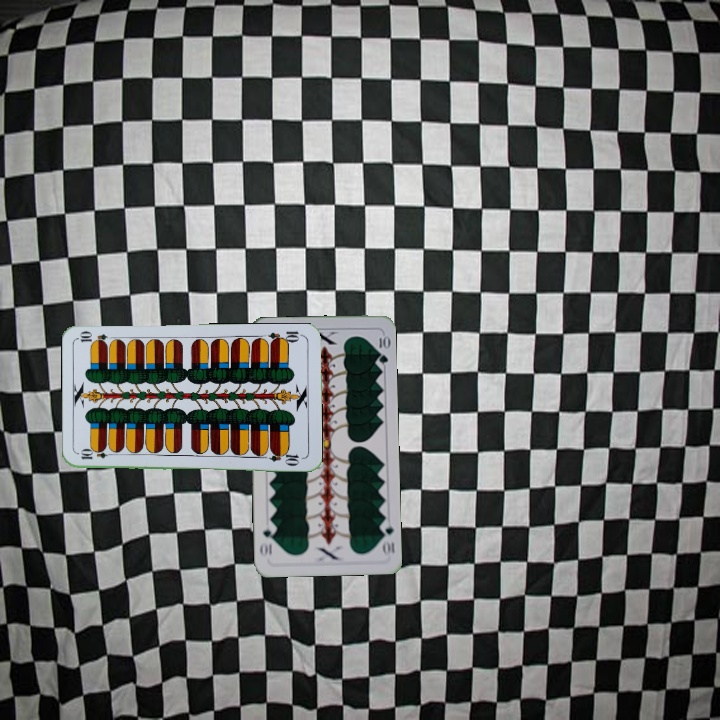E10: (265, 327, 305, 346), (77, 448, 117, 462)
G10: (377, 518, 397, 558)
